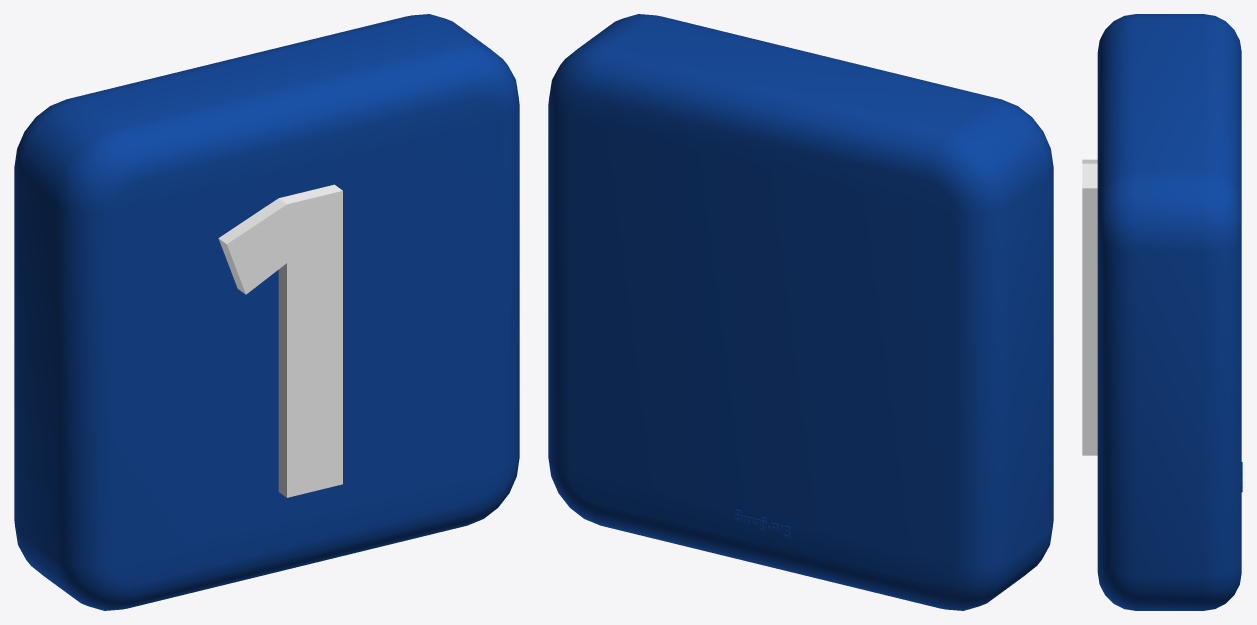
Rendered from keycap_1.fbx.
3 renders of one model, left to right at view 1: azimuth 30°, elevation 25°; view 2: azimuth 150°, elevation 25°; view 3: azimuth 270°, elevation 25°, orthographic. The views are drawn at different scales.
Parts seen in each view (by area): view 1: Cube.6579; view 2: Cube.6579; view 3: Cube.6579.
Boxes of the visible parts, box(x1,y1,x2,y2) form: Cube.6579: box(14, 14, 519, 610); Cube.6579: box(548, 14, 1053, 610); Cube.6579: box(1082, 14, 1242, 610).
Bounding box in the file's own units: 220 × 220 × 73.37.
Materials: 1 (1 with a texture image).
